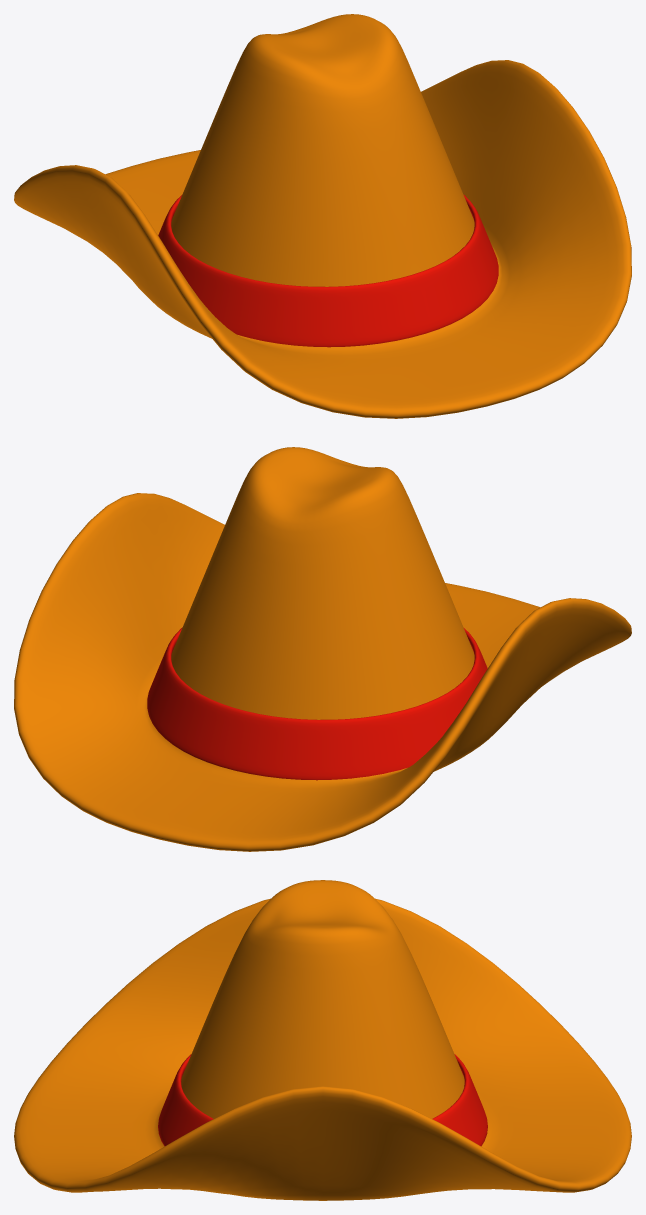
File: Foldy.fbx
3 views of the same model, one above another, from view 1: azimuth 30°, elevation 25°; view 2: azimuth 150°, elevation 25°; view 3: azimuth 270°, elevation 25° (orthographic). The views are drawn at different scales.
Parts seen in each view (by area): view 1: Object_4, Object_6; view 2: Object_4, Object_6; view 3: Object_4, Object_6.
Boxes of the visible parts, x1=… form: Object_4: x1=14, y1=14, x2=631, y2=418; Object_6: x1=158, y1=194, x2=498, y2=347; Object_4: x1=14, y1=447, x2=631, y2=851; Object_6: x1=147, y1=627, x2=487, y2=780; Object_4: x1=14, y1=880, x2=631, y2=1200; Object_6: x1=158, y1=1054, x2=487, y2=1146.
Bounding box in the file's own units: 149 × 82.11 × 194.
